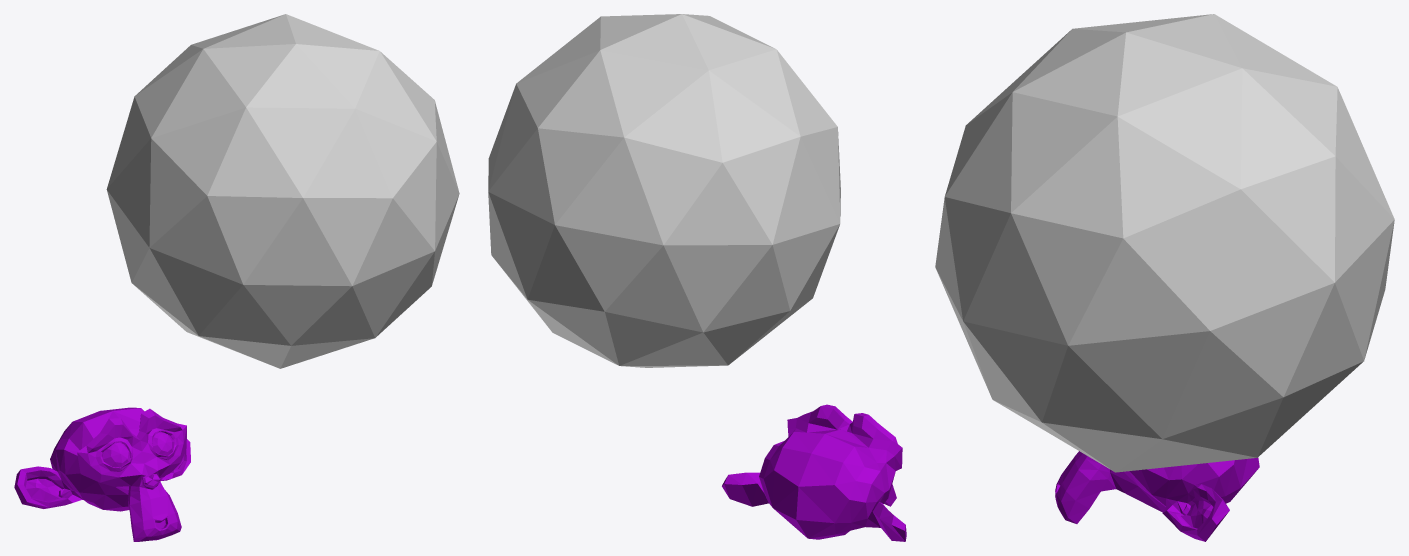
Rendered from ball_path.dae.
3 renders of one model, left to right at view 1: azimuth 30°, elevation 25°; view 2: azimuth 150°, elevation 25°; view 3: azimuth 270°, elevation 25°, orthographic. The views are drawn at different scales.
Visible parts, largest first — view 1: Icosphere, Suzanne; view 2: Icosphere, Suzanne; view 3: Icosphere, Suzanne.
Part boxes in pixels (x1,y1,x2,y2): Icosphere: (106, 14, 459, 368); Suzanne: (14, 407, 190, 541); Icosphere: (488, 14, 840, 367); Suzanne: (722, 404, 906, 541); Icosphere: (935, 14, 1394, 472); Suzanne: (1055, 451, 1259, 541).
Bounding box in the file's own units: 2.6 × 1.96 × 2.75.
